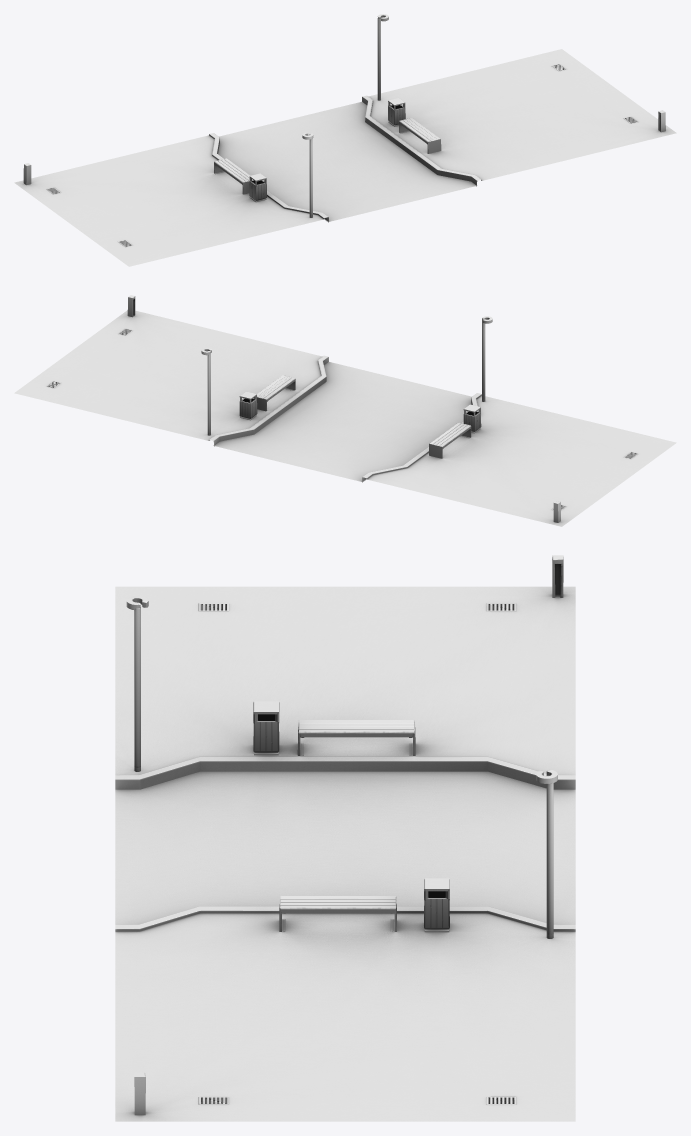
Rendered from street_6.glb.
3 renders of one model, top to bottom at view 1: azimuth 30°, elevation 25°; view 2: azimuth 150°, elevation 25°; view 3: azimuth 270°, elevation 25°, orthographic. The views are drawn at different scales.
Visible parts, largest first — view 1: street_6; view 2: street_6; view 3: street_6.
Boxes of the visible parts, box(x1,y1,x2,y2) form: street_6: box(14, 14, 676, 266); street_6: box(14, 295, 676, 526); street_6: box(115, 555, 575, 1121).
Bounding box in the file's own units: 22 × 3.37 × 8.
Materials: 1 (1 with a texture image).
